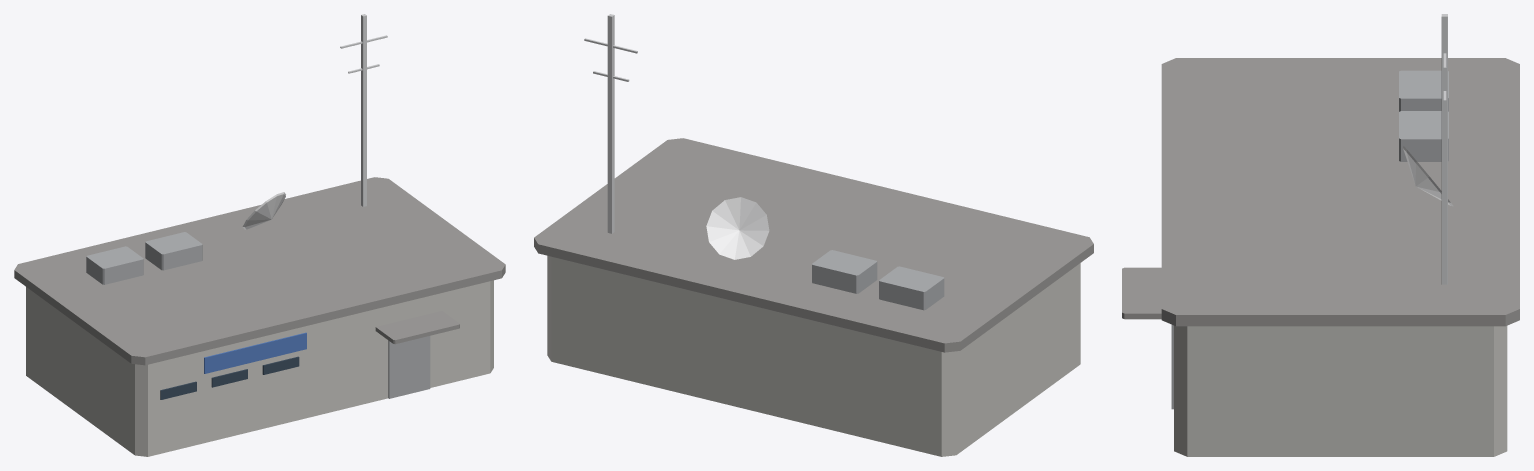
File: casamata.fbx
The picture shows the model from 3 angles, left to right: view 1: azimuth 30°, elevation 25°; view 2: azimuth 150°, elevation 25°; view 3: azimuth 270°, elevation 25°; orthographic projection. The views are drawn at different scales.
Visible parts, largest first — view 1: Casamata; view 2: Casamata; view 3: Casamata.
Part boxes in pixels (<box>): Casamata: <box>14,14,505,456</box>; Casamata: <box>534,14,1093,456</box>; Casamata: <box>1122,14,1519,456</box>.
Size of the model in its own units: 14.6 by 11 by 9.55.
Materials: 1 (1 with a texture image).
